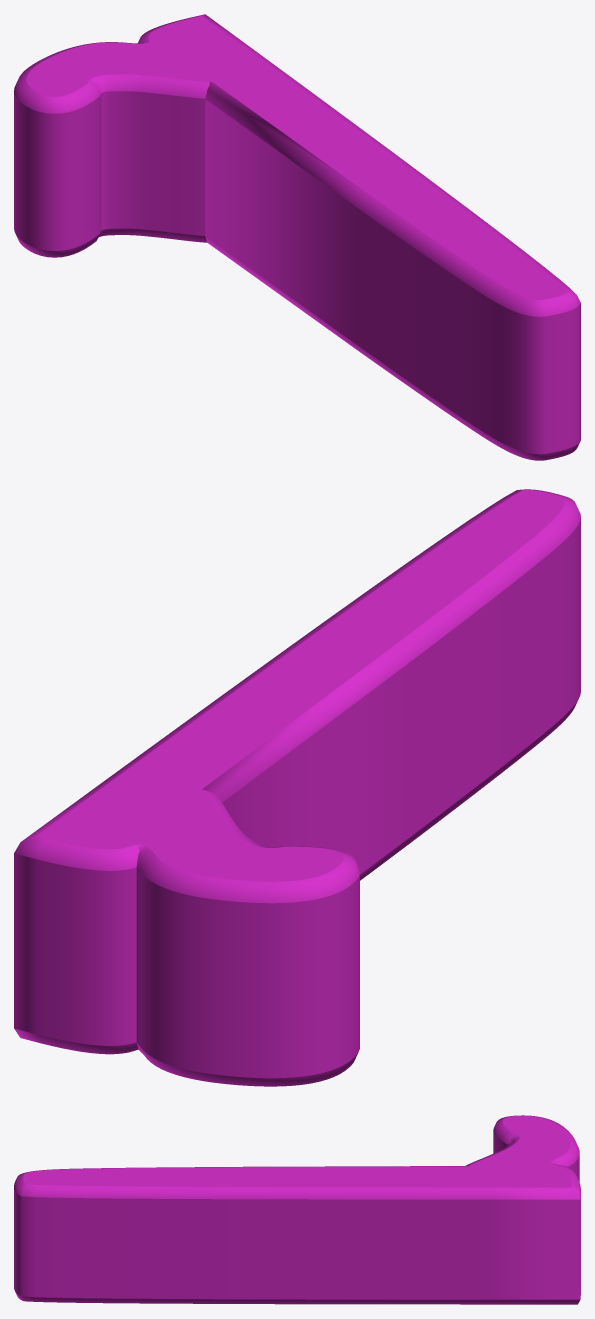
The model's file is Blocky_Letter_l.fbx.
3 views of the same model, one above another, from view 1: azimuth 30°, elevation 25°; view 2: azimuth 150°, elevation 25°; view 3: azimuth 270°, elevation 25° (orthographic). The views are drawn at different scales.
Visible parts, largest first — view 1: BlockyLetter_l; view 2: BlockyLetter_l; view 3: BlockyLetter_l.
Part boxes in pixels (x1,y1,x2,y2): BlockyLetter_l: (14, 14, 580, 460); BlockyLetter_l: (14, 489, 580, 1086); BlockyLetter_l: (14, 1115, 580, 1304).
Bounding box in the file's own units: 0.2048 × 0.14 × 0.6166.
